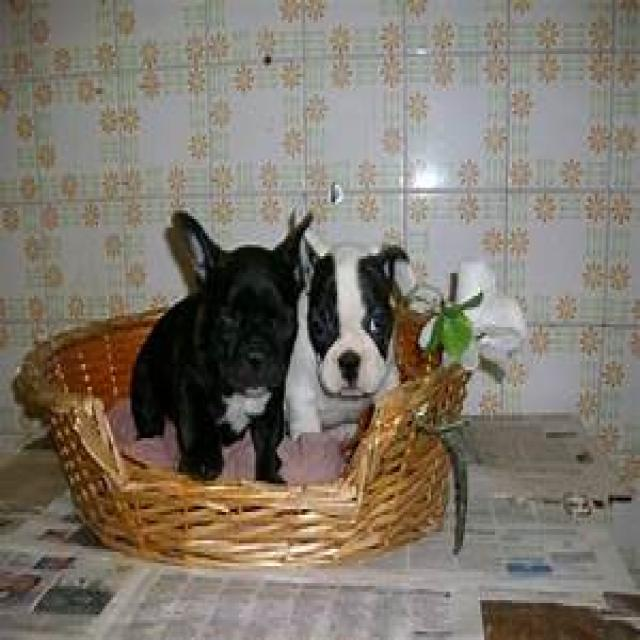dog: (132, 213, 314, 486), (277, 216, 414, 486)
